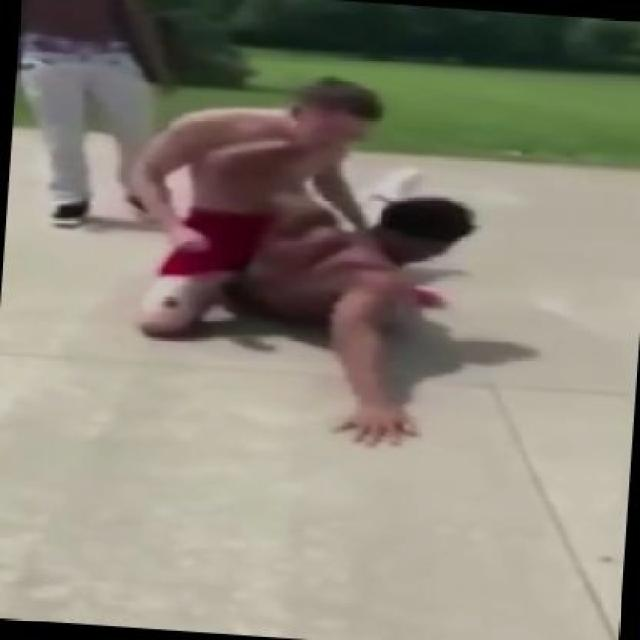fight: (94, 25, 521, 460)
